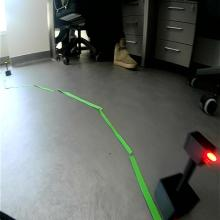red: (185, 129, 217, 168)
